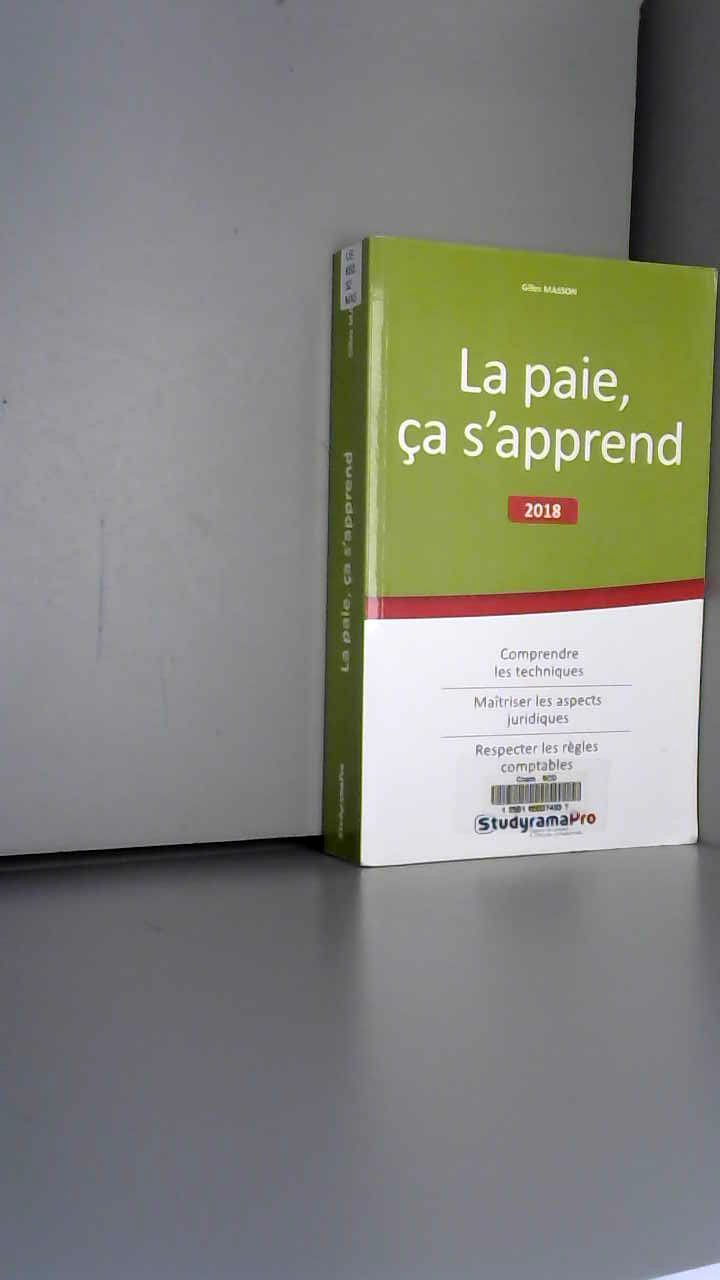book: (300, 210, 720, 940)
